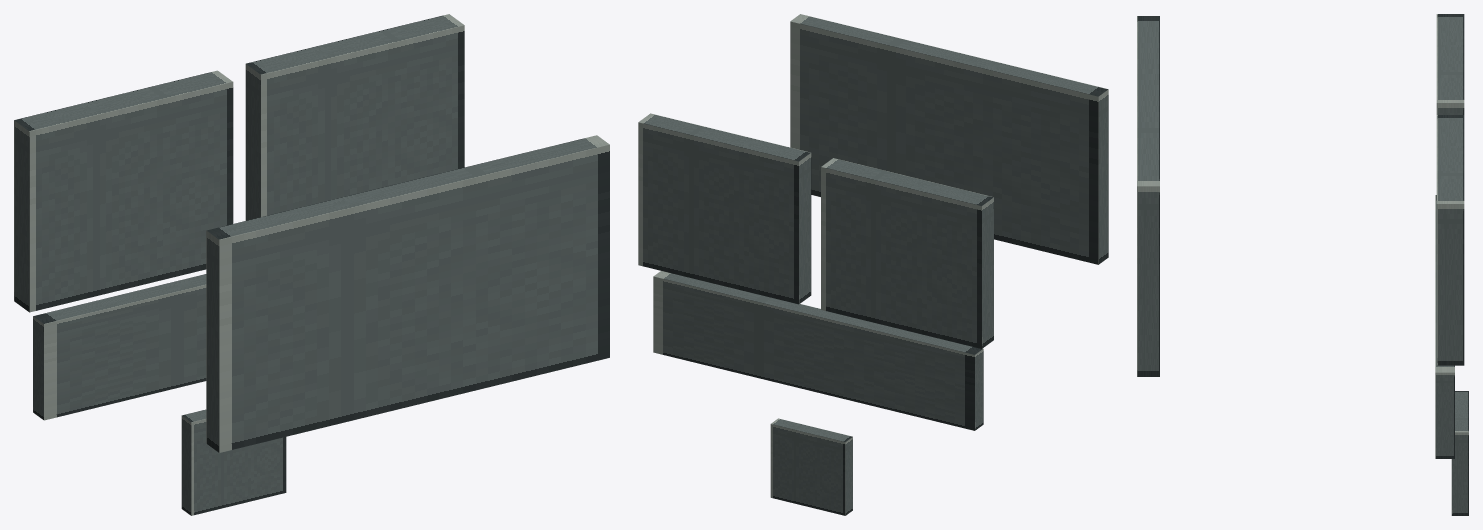
Rendered from workpiece_xuantie_chestplate_shaped.obj.
3 views of the same model, side by side, from view 1: azimuth 30°, elevation 25°; view 2: azimuth 150°, elevation 25°; view 3: azimuth 270°, elevation 25° (orthographic). The views are drawn at different scales.
Visible parts, largest first — view 1: geometry; view 2: geometry; view 3: geometry.
Part boxes in pixels (left/top/right/bottom): geometry: left=14, top=14, right=609, bottom=515; geometry: left=638, top=14, right=1108, bottom=515; geometry: left=1137, top=14, right=1468, bottom=515.
Bounding box in the file's own units: 0.4875 × 0.4719 × 0.36.
